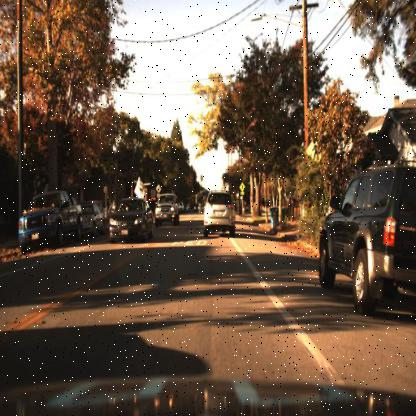car: (317, 156, 414, 314), (16, 189, 82, 253), (108, 195, 154, 245), (202, 190, 236, 238), (153, 192, 181, 226)
